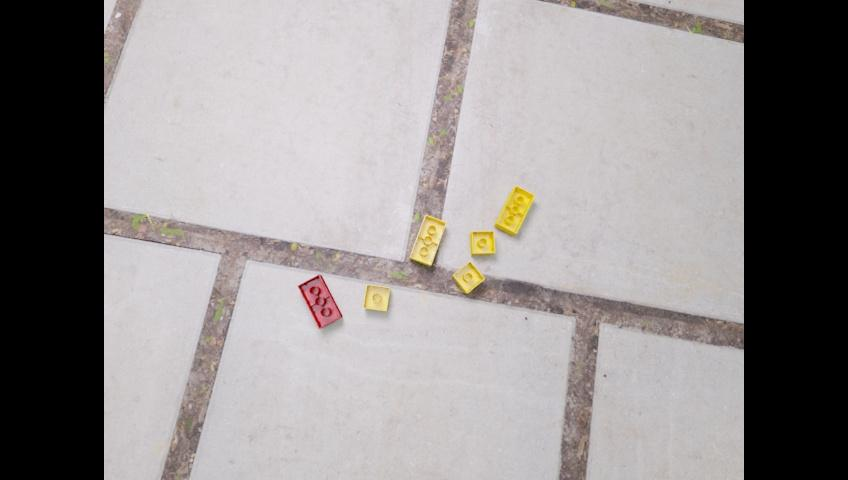2x2_yellow: (451, 260, 483, 293), (363, 283, 389, 311), (469, 230, 494, 254)
4x2_red: (297, 273, 342, 328)
4x2_yellow: (494, 184, 534, 235), (409, 213, 445, 267)
